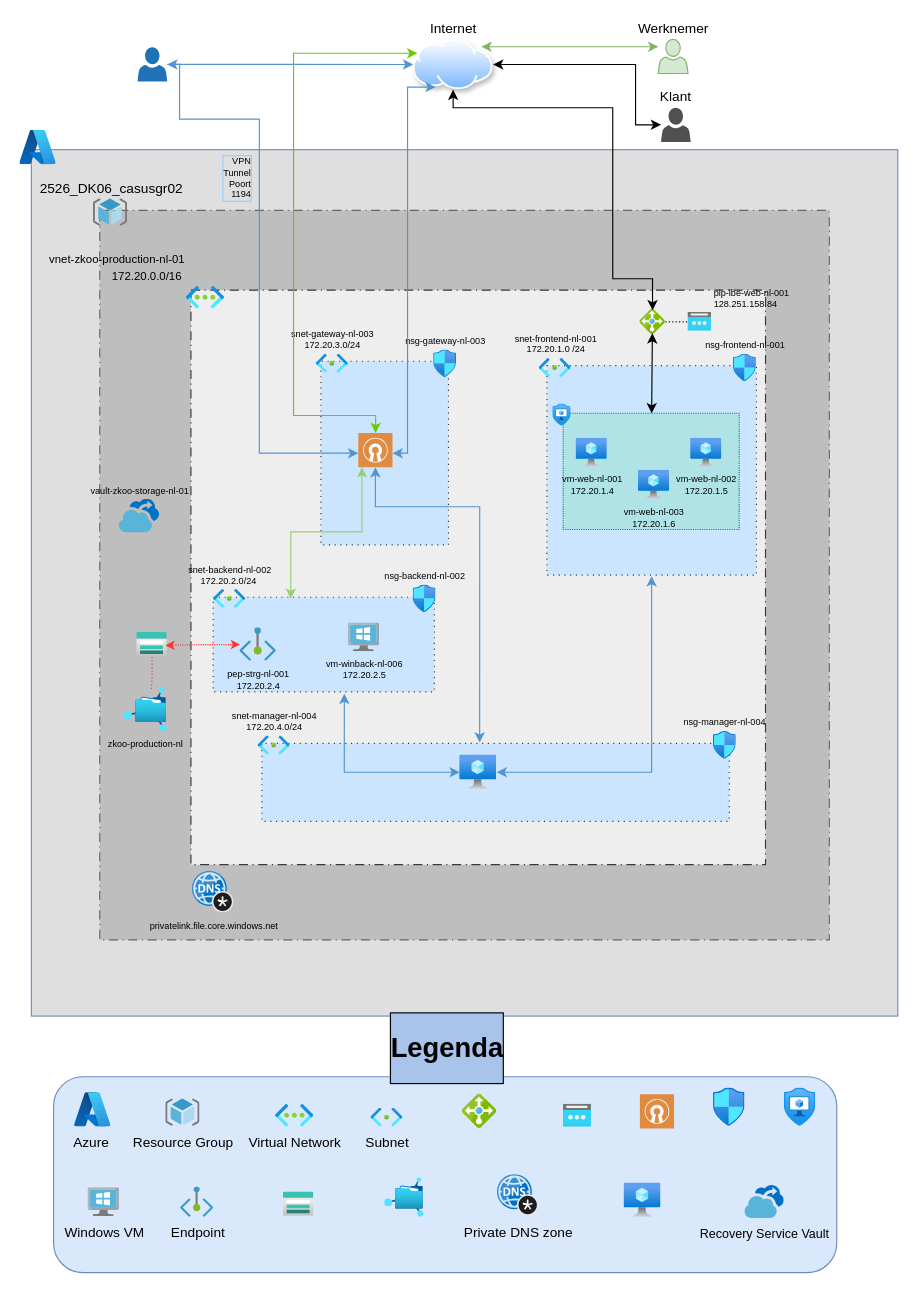
The diagram is 918 pixels wide and 1293 high, and some of its shapes have lost their labels. The centre of each missing label's shape, as x and y in pixels:
Administrator: the point at 152,64
ASG: the point at 799,1107
asg-webservers-nl-001: the point at 561,415
File Share: the point at 404,1197
lbe-web-nl-001: the point at 652,321
Load Balancer: the point at 479,1111
NSG: the point at 729,1107
Public IP: the point at 577,1115
Storage Acount: the point at 298,1203
strgprodzkoonl001: the point at 151,644
Virtual Machine: the point at 642,1200
vm-gateway-nl-005 172.20.3.4: the point at 375,450
vm-manager-nl-004 172.20.4.4: the point at 477,772
VPN VM: the point at 656,1111
